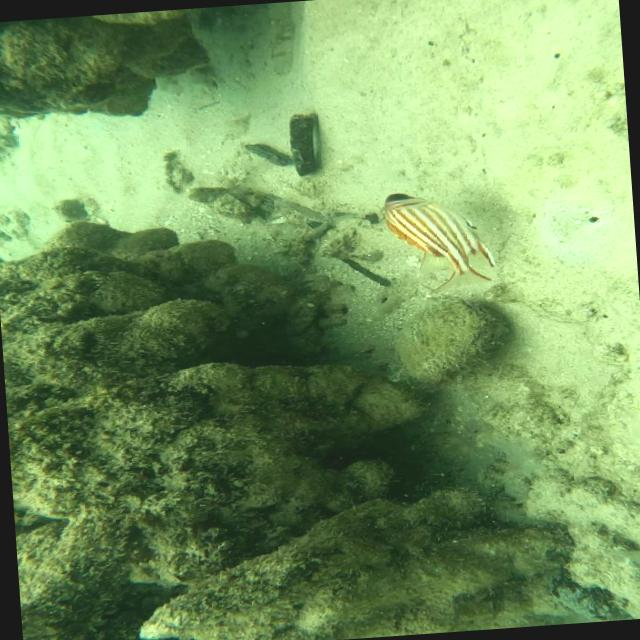Asker Baligi: (356, 179, 520, 304)
